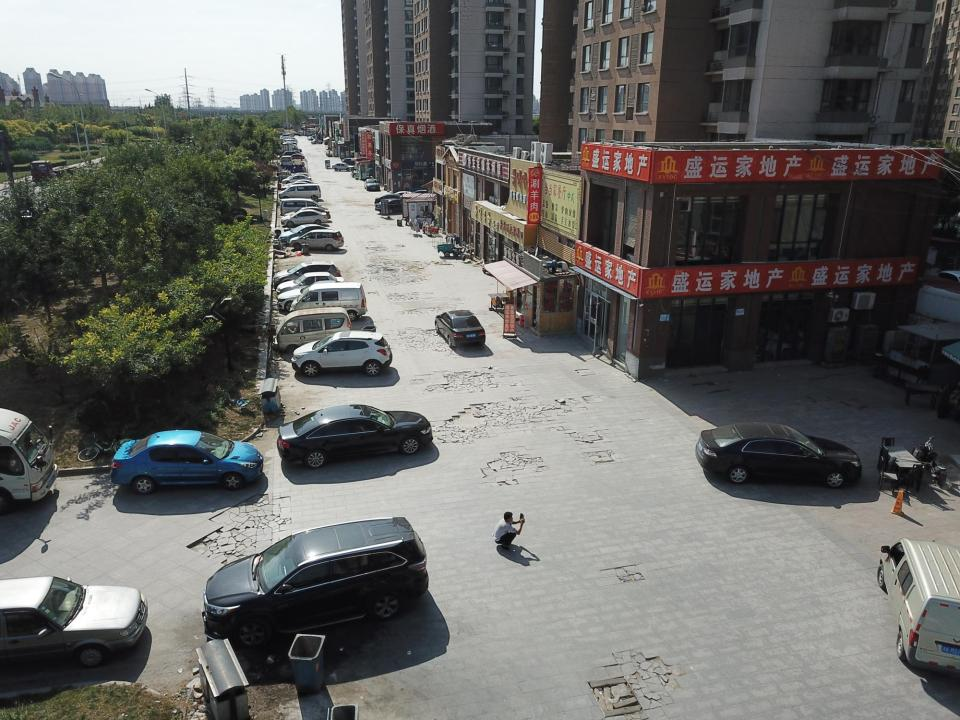car: (202, 518, 428, 645), (0, 576, 151, 670), (696, 421, 864, 488), (275, 404, 435, 468), (109, 430, 264, 494), (292, 330, 392, 378), (434, 309, 487, 347), (278, 280, 344, 310), (272, 261, 340, 288), (276, 272, 344, 295), (290, 229, 344, 251), (278, 225, 332, 244), (281, 209, 327, 228), (283, 207, 331, 220), (375, 199, 405, 214), (282, 174, 312, 184), (374, 194, 402, 204), (281, 182, 310, 190), (283, 179, 318, 185), (363, 178, 380, 190), (331, 163, 355, 171), (311, 140, 323, 145), (308, 135, 314, 141)
truck: (0, 405, 60, 501), (30, 160, 76, 184)
van: (877, 538, 960, 675), (275, 306, 353, 353), (288, 281, 368, 322), (279, 198, 329, 216), (279, 184, 321, 200)
